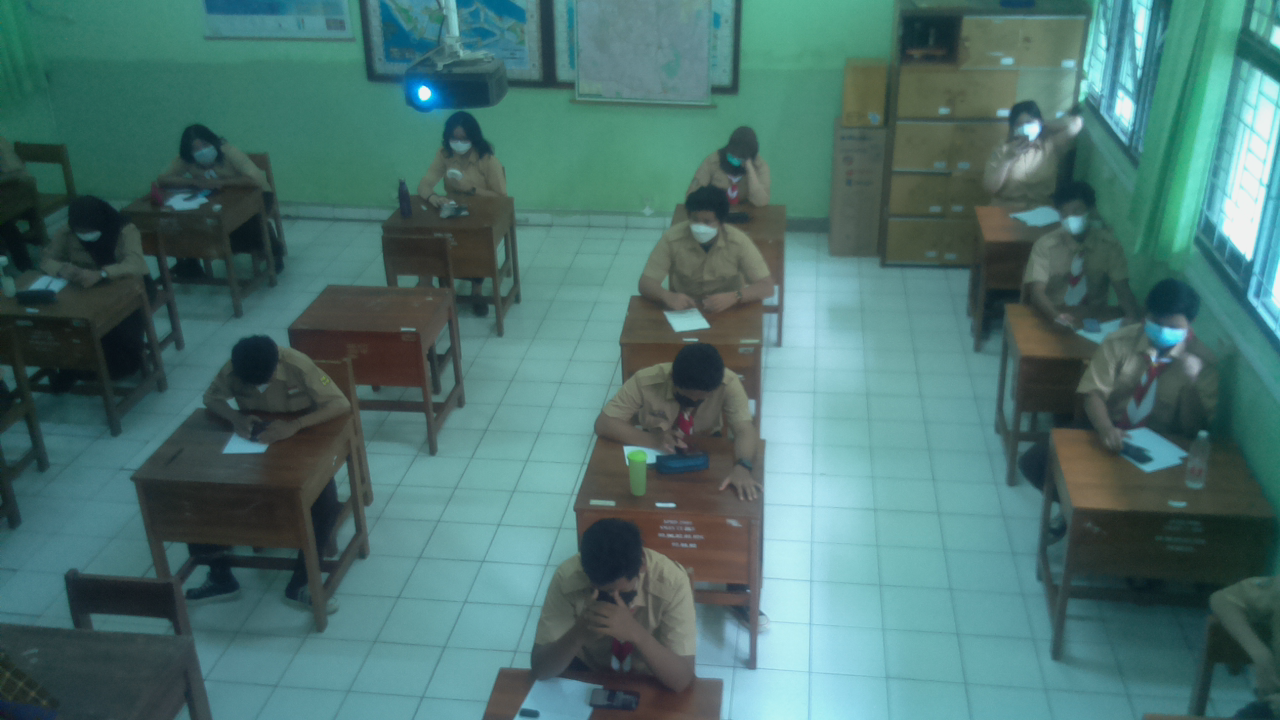Student: (547, 521, 693, 671), (1103, 279, 1216, 425), (1031, 183, 1121, 310), (627, 343, 747, 437), (659, 187, 754, 296), (209, 337, 327, 411), (55, 195, 147, 281), (993, 103, 1073, 196), (427, 111, 498, 193), (167, 127, 255, 188), (699, 127, 765, 198)
